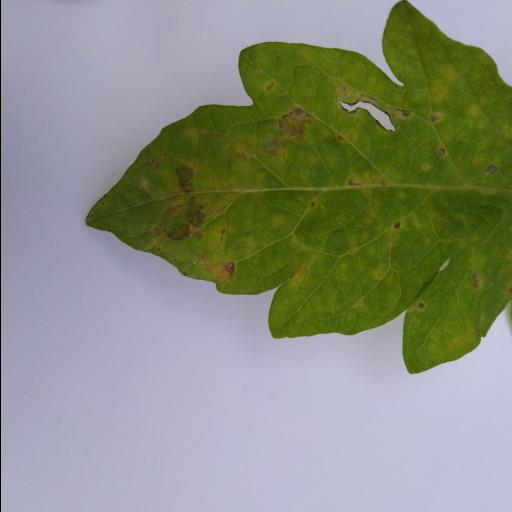Early Blight: (87, 0, 512, 379)
